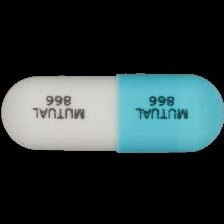53489-648: (0, 0, 224, 224)
